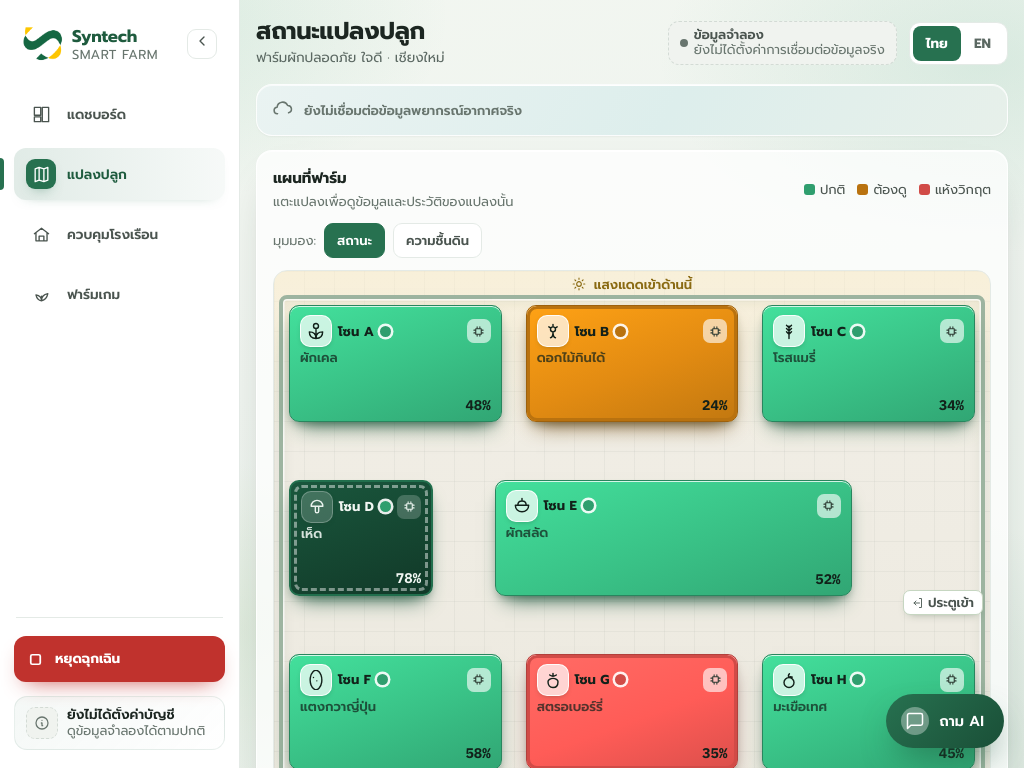
IrrigationPage › ปุ่มเซนเซอร์บนแปลงเปิดลิ้นชักที่แท็บเซนเซอร์โดยตรง
Click the button named "โซน D · จุดเซนเซอร์ประจำโซน" at [409, 507], box [397,495,421,519]
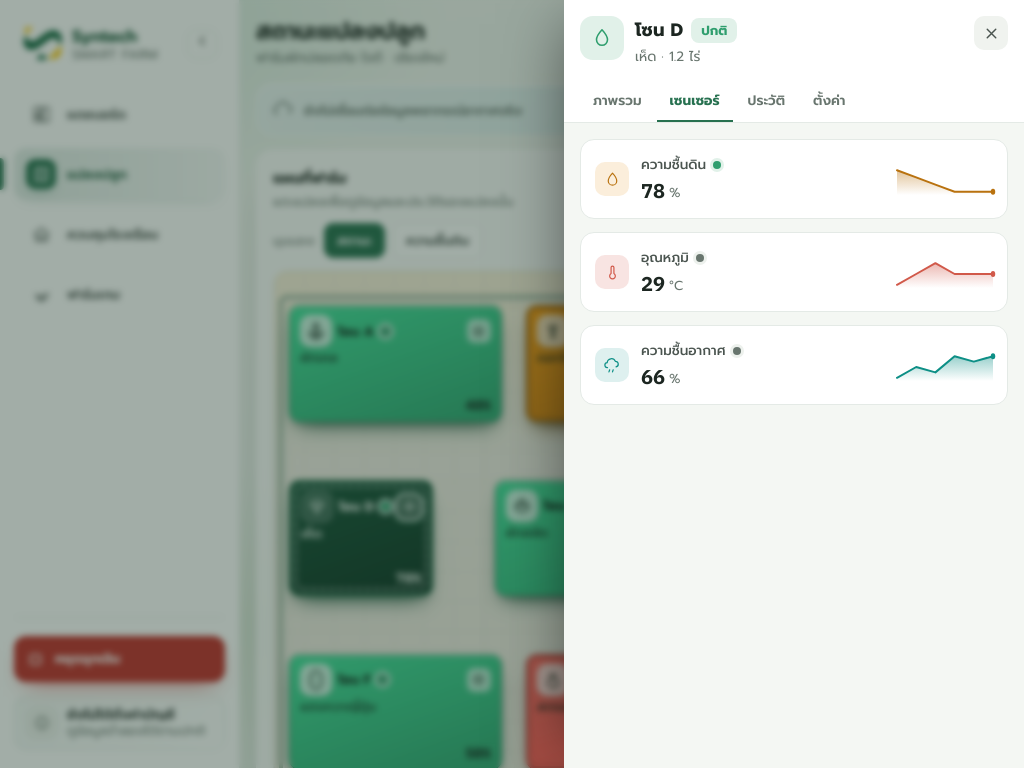
Result: the text "ความชื้นดิน" is shown at [641,154,706,175]
